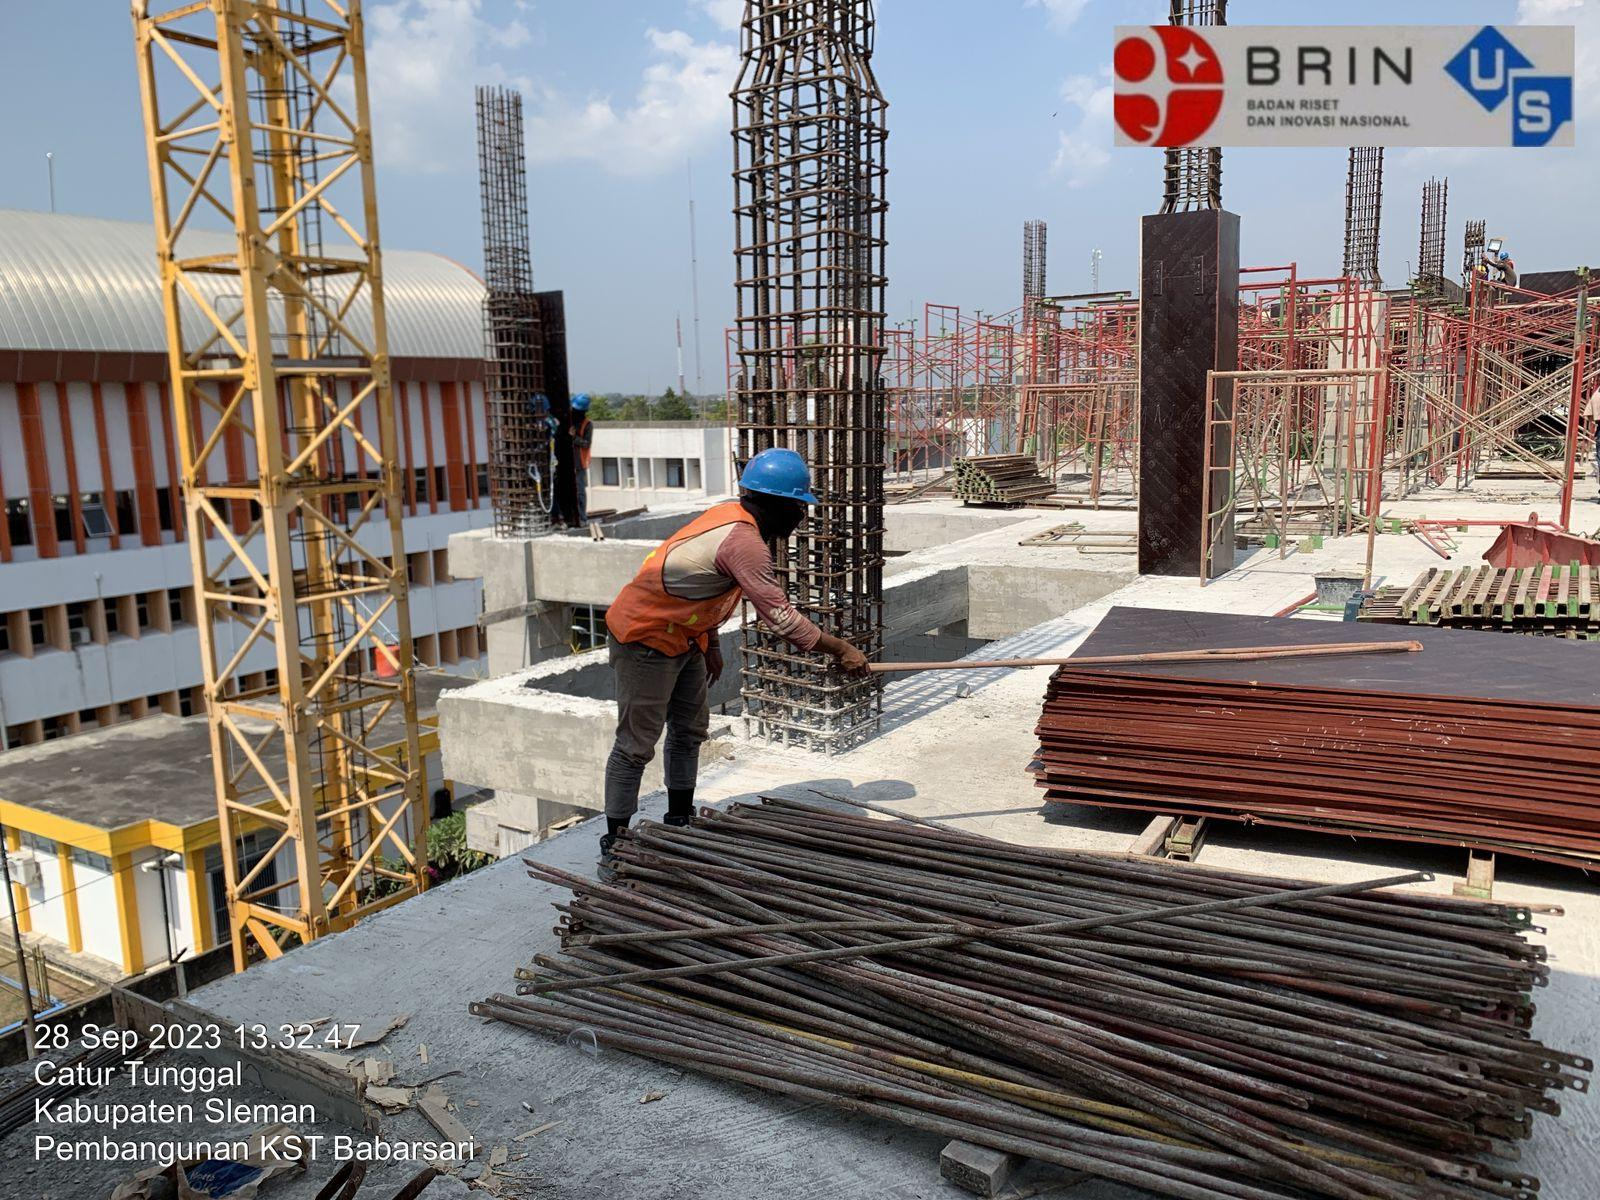hat: (718, 421, 850, 551)
vest: (609, 471, 753, 705)
